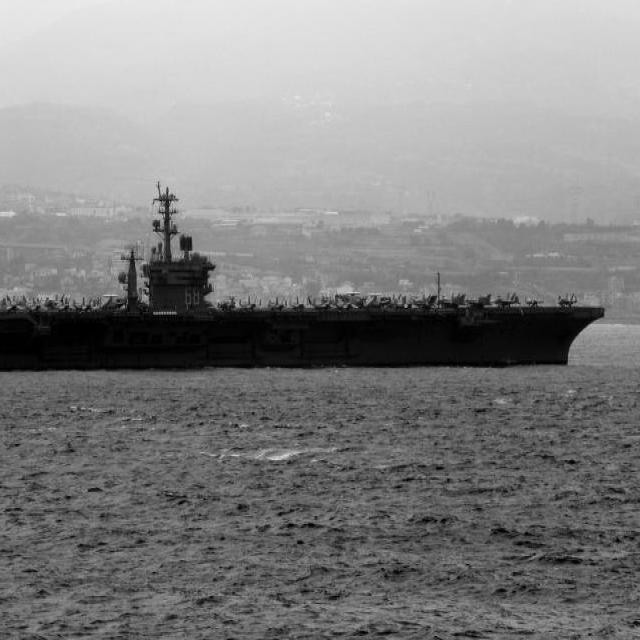Portanaves: (1, 177, 614, 381)
